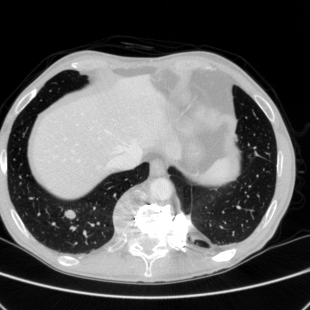nodule: (65, 209, 75, 219)
